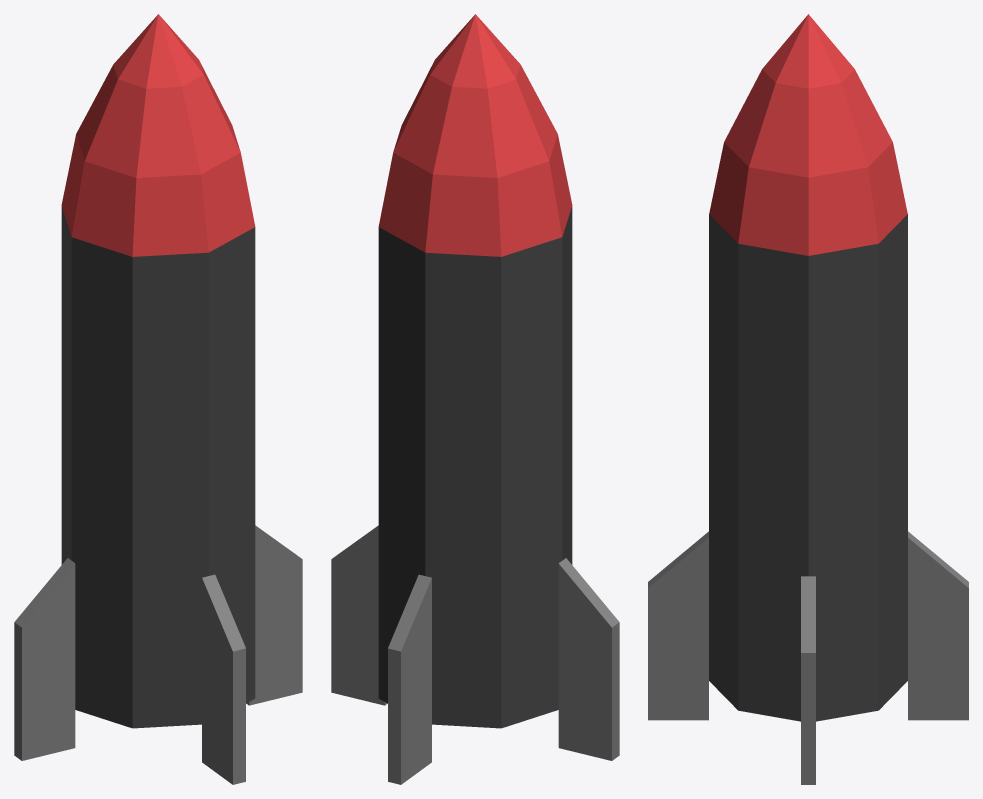
File: Missile.fbx
3 renders of one model, left to right at view 1: azimuth 30°, elevation 25°; view 2: azimuth 150°, elevation 25°; view 3: azimuth 270°, elevation 25°, orthographic.
Visible parts, largest first — view 1: Missile_Base, Missile_Flap_1, Missile_Flap_3, Missile_Flap; view 2: Missile_Base, Missile_Flap_1, Missile_Flap_2, Missile_Flap; view 3: Missile_Base, Missile_Flap_2, Missile_Flap_3, Missile_Flap.
Part boxes in pixels (x1,y1,x2,y2): Missile_Base: (61, 14, 255, 728); Missile_Flap_1: (14, 558, 75, 760); Missile_Flap_3: (202, 574, 245, 784); Missile_Flap: (246, 525, 302, 705); Missile_Base: (378, 14, 572, 728); Missile_Flap_1: (558, 558, 619, 760); Missile_Flap_2: (388, 574, 431, 784); Missile_Flap: (331, 525, 387, 705); Missile_Base: (709, 14, 907, 721); Missile_Flap_2: (908, 531, 968, 720); Missile_Flap_3: (648, 531, 708, 720); Missile_Flap: (801, 576, 815, 784).
Bounding box in the file's own units: 0.8075 × 1.95 × 0.8075.
